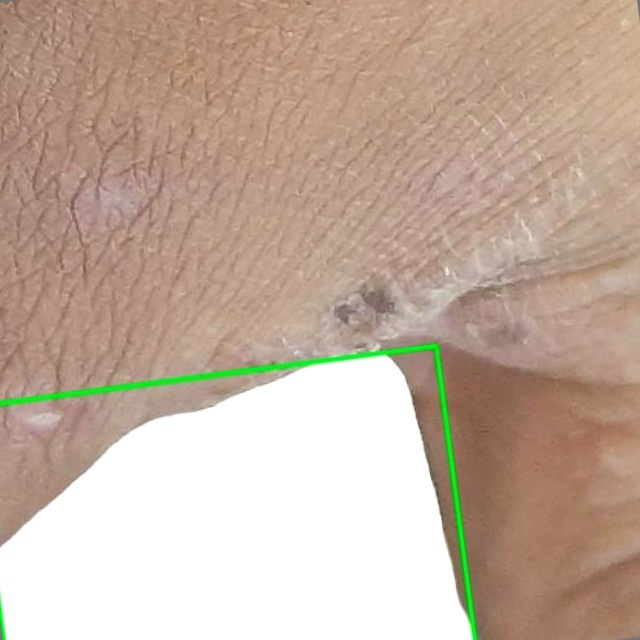Scabies: (0, 345, 475, 639)
